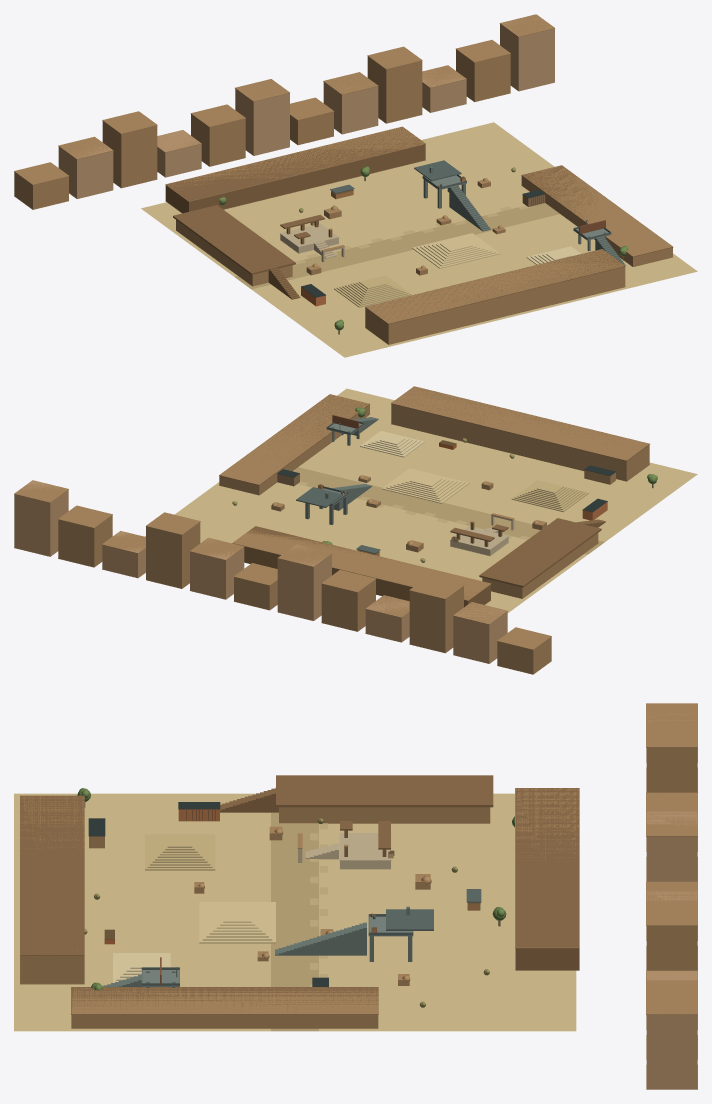
Rendered from duneridge.glb.
The picture shows the model from 3 angles, top to bottom: view 1: azimuth 30°, elevation 25°; view 2: azimuth 150°, elevation 25°; view 3: azimuth 270°, elevation 25°; orthographic projection. The views are drawn at different scales.
Visible parts, largest first — view 1: sand, rock, rock:dark, distant2, distant, sand:dark, dune:east, metal, dune:west, stone, metal:rail; view 2: rock, sand, distant2, distant, rock:dark, sand:dark, dune:east, dune:west, stone, metal, dune:south, metal:rail (+1 smaller); view 3: sand, rock:dark, rock, distant2, distant, sand:dark, dune:east, dune:west, metal, stone, metal:rail, dune:south (+3 smaller).
Part boxes in pixels (box(x1,y1,x2,y2)): sand: box(141, 122, 697, 357); rock: box(14, 14, 672, 344); rock:dark: box(165, 127, 673, 344); distant2: box(14, 40, 510, 209); distant: box(58, 15, 554, 198); sand:dark: box(234, 203, 559, 289); dune:east: box(412, 233, 500, 268); metal: box(423, 166, 625, 265); dune:west: box(334, 275, 411, 307); stone: box(280, 223, 344, 262); metal:rail: box(330, 160, 611, 239); rock: box(14, 386, 649, 674); sand: box(145, 388, 697, 612); distant2: box(58, 505, 551, 674); distant: box(14, 480, 507, 663); rock:dark: box(219, 386, 649, 607); sand:dark: box(293, 467, 604, 554); dune:east: box(382, 468, 469, 503); dune:west: box(511, 480, 588, 512); stone: box(450, 515, 514, 555); metal: box(305, 417, 378, 524); dune:south: box(360, 431, 424, 457); metal:rail: box(296, 421, 380, 553); sand: box(14, 793, 576, 1031); rock:dark: box(20, 775, 579, 1028); rock: box(20, 703, 697, 1089); distant2: box(646, 704, 697, 989); distant: box(646, 713, 697, 1088); sand:dark: box(271, 812, 318, 1031); dune:east: box(199, 902, 275, 943); dune:west: box(145, 834, 215, 870); metal: box(103, 906, 412, 987); stone: box(298, 833, 391, 869); metal:rail: box(141, 889, 481, 985); dune:south: box(113, 953, 170, 982).
Bounding box in the file's own units: 260 × 26.2 × 214.
